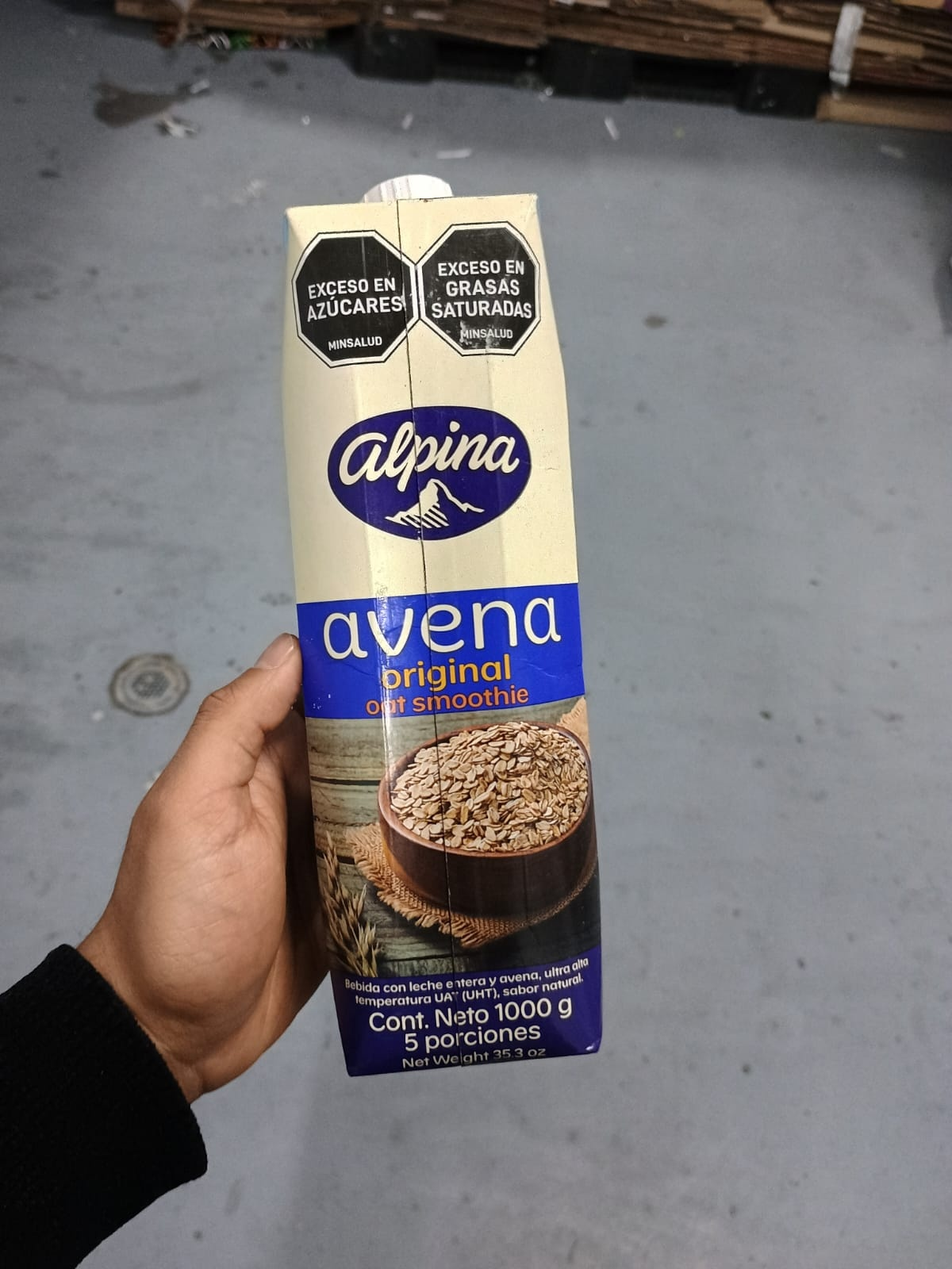Carton: (283, 191, 600, 1078)
